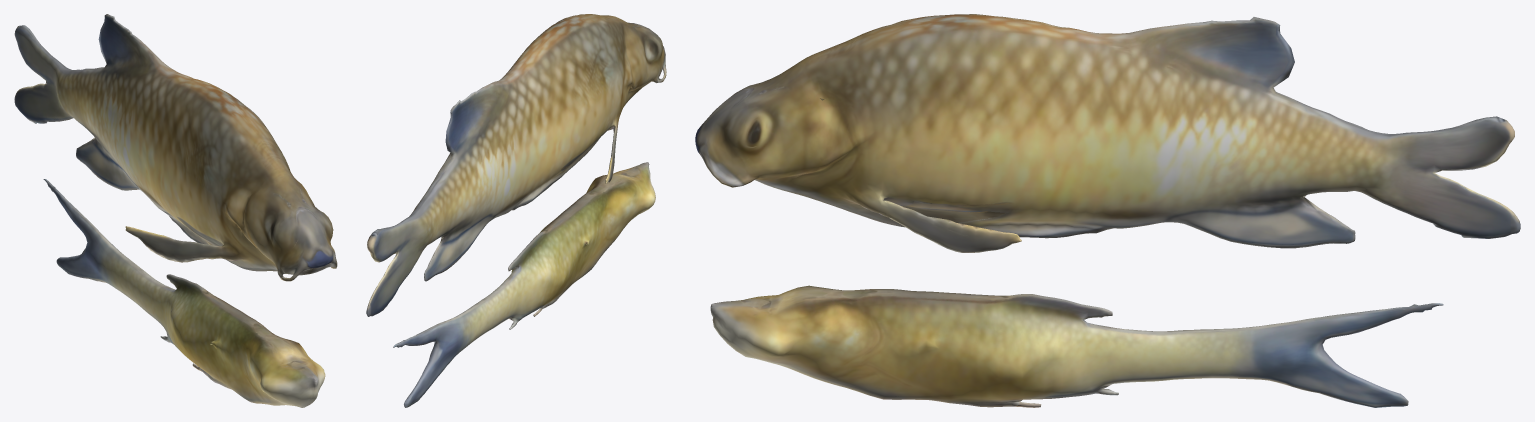
Rendered from Fish_Blind_1019090544_texture.fbx.
The picture shows the model from 3 angles, left to right: view 1: azimuth 30°, elevation 25°; view 2: azimuth 150°, elevation 25°; view 3: azimuth 270°, elevation 25°; orthographic projection. The views are drawn at different scales.
Visible parts, largest first — view 1: Mesh1.0; view 2: Mesh1.0; view 3: Mesh1.0.
Part boxes in pixels (x1,y1,x2,y2): Mesh1.0: [14, 14, 337, 407]; Mesh1.0: [366, 14, 666, 407]; Mesh1.0: [695, 14, 1520, 407].
Bounding box in the file's own units: 54.89 × 105 × 200.
Materials: 1 (1 with a texture image).
